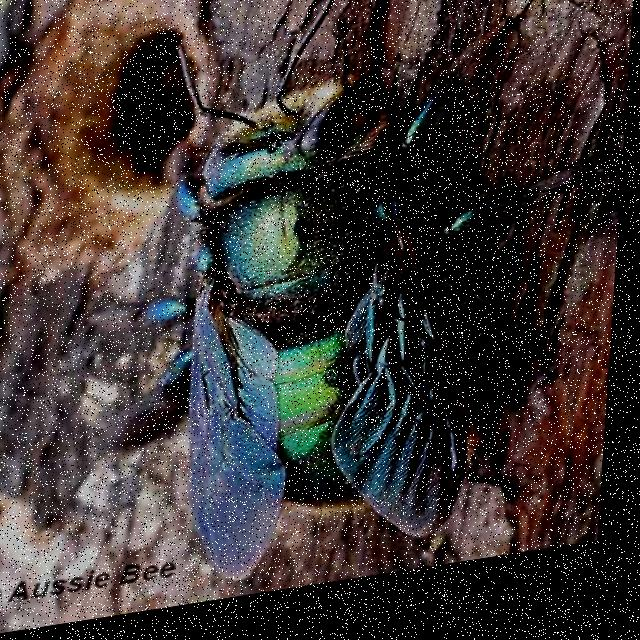Xylocopa: (98, 0, 622, 602)
